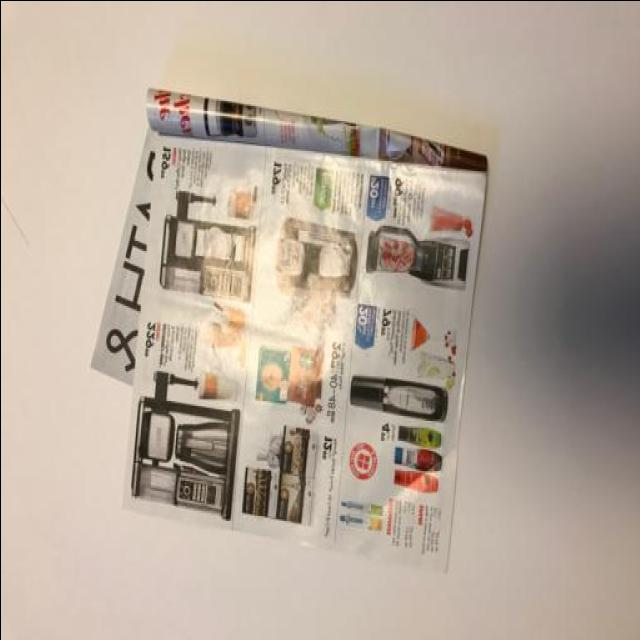kertas: (90, 87, 486, 576)
